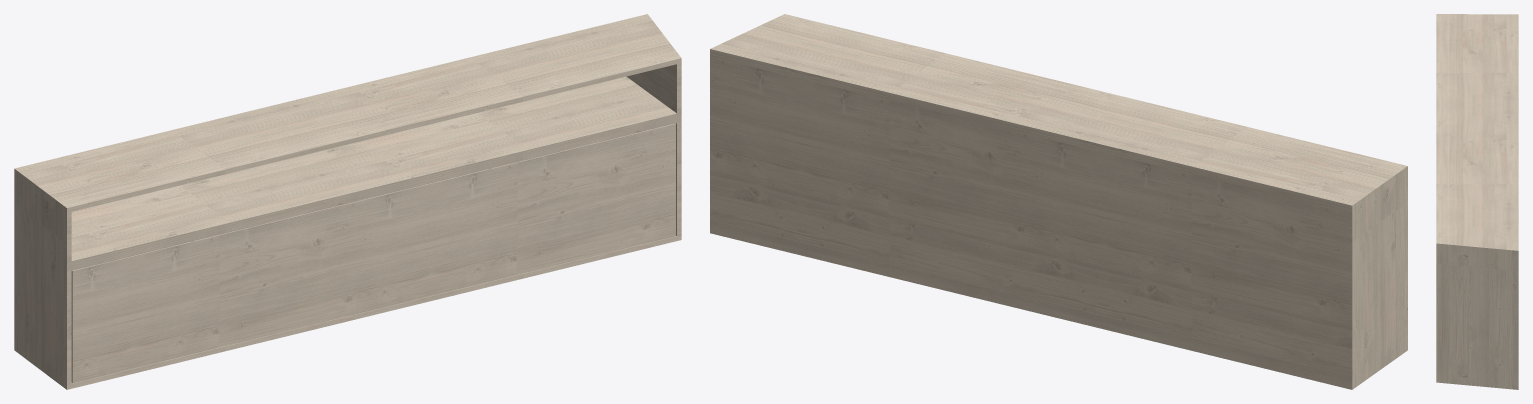
The model's file is cassettiera inferiore.fbx.
The picture shows the model from 3 angles, left to right: view 1: azimuth 30°, elevation 25°; view 2: azimuth 150°, elevation 25°; view 3: azimuth 270°, elevation 25°; orthographic projection. The views are drawn at different scales.
Parts seen in each view (by area): view 1: Cassettuera inferiore; view 2: Cassettuera inferiore; view 3: Cassettuera inferiore.
Part boxes in pixels (x1=…): Cassettuera inferiore: x1=14, y1=14, x2=681, y2=389; Cassettuera inferiore: x1=710, y1=14, x2=1407, y2=389; Cassettuera inferiore: x1=1436, y1=14, x2=1518, y2=389.
Bounding box in the file's own units: 171 × 46.69 × 25.06.
